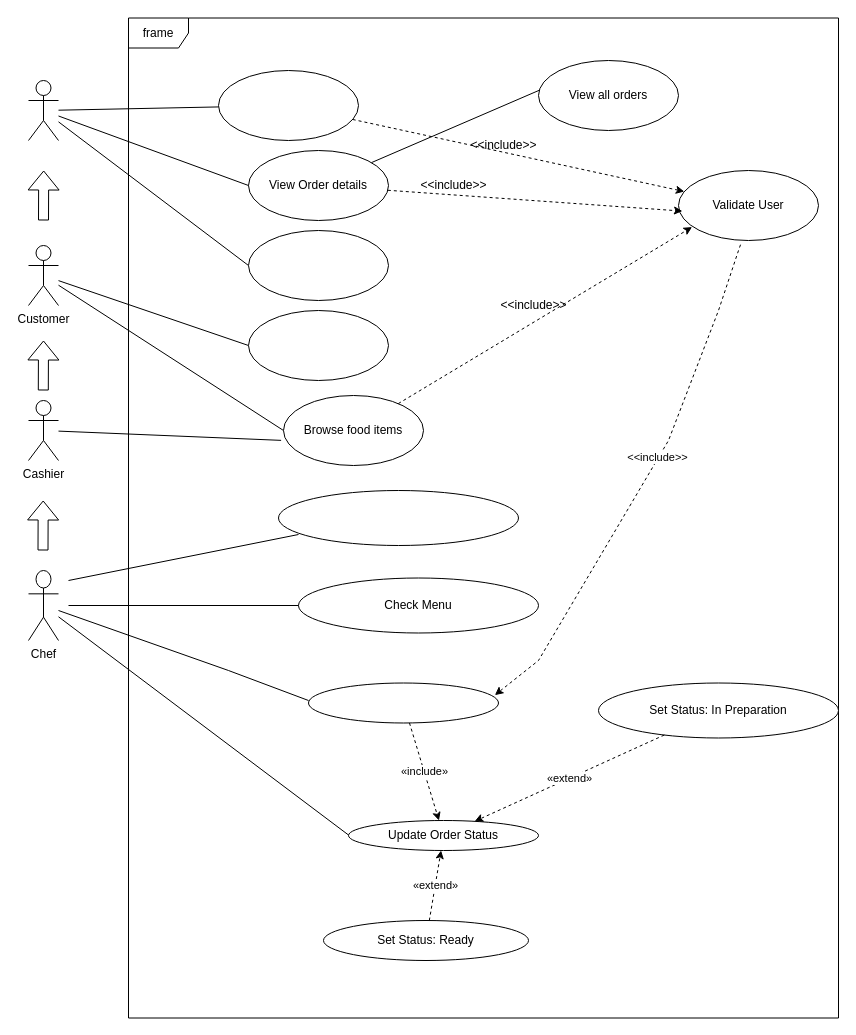
Some shapes in this 856 by 1035 pixel diagram are drawn without their labels. The centre of each missing label's shape, as x and y in pixels:
Create an event: the point at 318,345
Order Food: the point at 288,105
Update Dishes: the point at 398,518
Update Order details: the point at 318,265
User: the point at 43,110
View Incoming Orders: the point at 403,702
